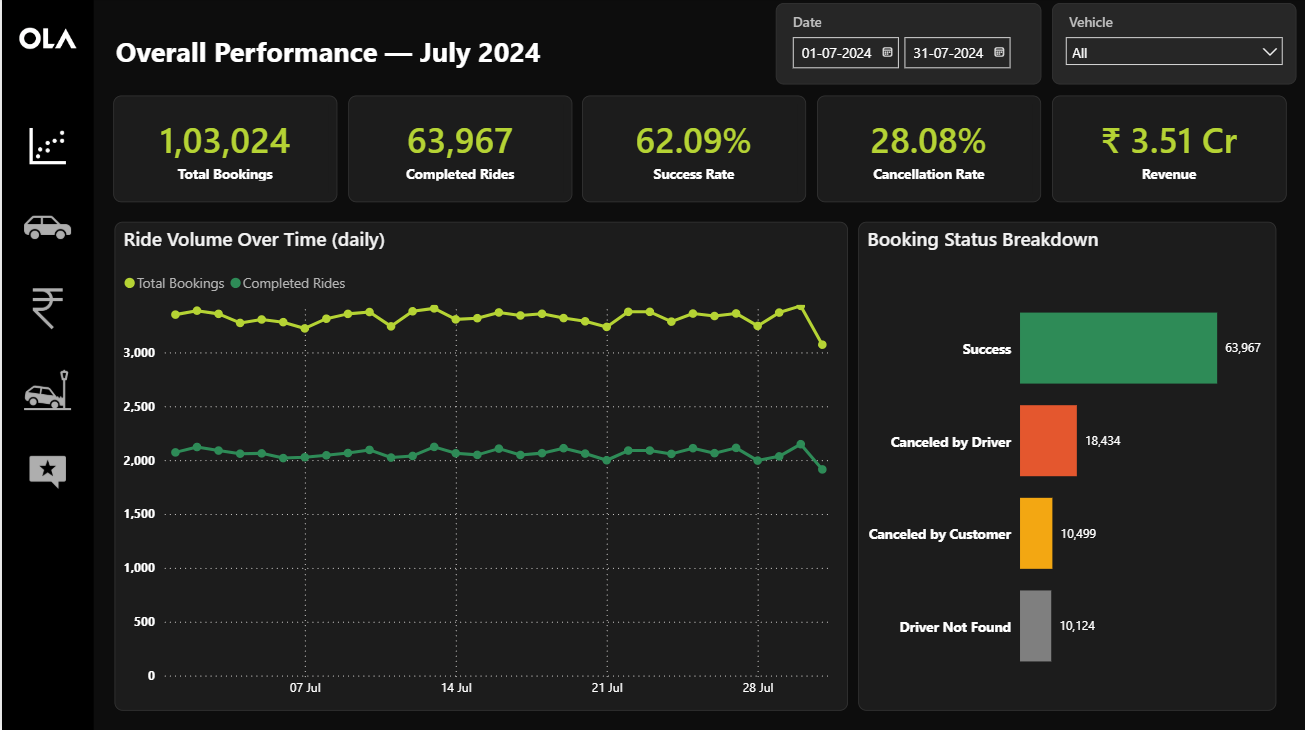

The dashboard page shown, as its layout file describes it:
{"tool":"powerbi","page":{"name":"Overall","canvas":[1280,720],"ordinal":0},"visuals":[{"type":"group","id":"g1","title":"Group 1","box":[0,0,90,720],"z":0},{"type":"shape","box":[0,0,90,720],"z":0,"group":"g1"},{"type":"image","box":[10,25,70,30],"z":1000,"group":"g1"},{"type":"textbox","box":[100,30,600,45],"z":1000},{"type":"slicer","fields":{"Values":["ola_rides.Ride_Date"]},"box":[759.6,5.1,260.4,80],"z":2000},{"type":"image","box":[20,120,50,50],"z":2000,"group":"g1"},{"type":"slicer","fields":{"Values":["ola_rides.Vehicle_Type"]},"box":[1030.3,5.1,240,80],"z":3000},{"type":"image","box":[20,200,50,50],"z":3000,"group":"g1"},{"type":"cardVisual","fields":{"Data":["_Measures.Total Bookings Label"]},"box":[109.8,95.8,220,105],"z":4000},{"type":"image","box":[20,280,50,50],"z":4000,"group":"g1"},{"type":"cardVisual","fields":{"Data":["_Measures.Completed Rides Label"]},"box":[339.6,95.8,220,105],"z":5000},{"type":"image","box":[20,360,50,50],"z":5000,"group":"g1"},{"type":"cardVisual","fields":{"Data":["_Measures.Success Rate"]},"box":[569.4,95.8,220,105],"z":6000},{"type":"image","box":[20,440,50,50],"z":6000,"group":"g1"},{"type":"cardVisual","fields":{"Data":["_Measures.Cancellation Rate"]},"box":[800.5,95.8,220,105],"z":7000},{"type":"cardVisual","fields":{"Data":["_Measures.Revenue Cr"]},"box":[1030.3,95.8,230,105],"z":8000},{"type":"lineChart","title":"Ride Volume Over Time (daily)","fields":{"Category":["ola_rides.Ride_Date.Variation.Date Hierarchy.Year"],"Y":["_Measures.Total Bookings","_Measures.Completed Rides"]},"box":[110,220,720,480],"z":9000},{"type":"clusteredBarChart","title":"Booking Status Breakdown","fields":{"Category":["ola_rides.Booking_Status"],"Y":["_Measures.Total Bookings"]},"box":[840,220,410,480],"z":10000}]}

Visuals, with their boxes in screenshot pixels (x1, y1, x2, y2), scaled from the page's 1280x720 canvas onto the 1305x730 screenshot:
"Group 1" group: (x1=0, y1=0, x2=92, y2=729)
shape: (x1=0, y1=0, x2=92, y2=729)
image: (x1=10, y1=25, x2=82, y2=56)
textbox: (x1=102, y1=30, x2=714, y2=76)
slicer - ola_rides.Ride_Date: (x1=774, y1=5, x2=1040, y2=86)
image: (x1=20, y1=122, x2=71, y2=172)
slicer - ola_rides.Vehicle_Type: (x1=1050, y1=5, x2=1295, y2=86)
image: (x1=20, y1=203, x2=71, y2=253)
cardVisual - _Measures.Total Bookings Label: (x1=112, y1=97, x2=336, y2=204)
image: (x1=20, y1=284, x2=71, y2=335)
cardVisual - _Measures.Completed Rides Label: (x1=346, y1=97, x2=571, y2=204)
image: (x1=20, y1=365, x2=71, y2=416)
cardVisual - _Measures.Success Rate: (x1=581, y1=97, x2=805, y2=204)
image: (x1=20, y1=446, x2=71, y2=497)
cardVisual - _Measures.Cancellation Rate: (x1=816, y1=97, x2=1040, y2=204)
cardVisual - _Measures.Revenue Cr: (x1=1050, y1=97, x2=1285, y2=204)
"Ride Volume Over Time (daily)" lineChart: (x1=112, y1=223, x2=846, y2=710)
"Booking Status Breakdown" clusteredBarChart: (x1=856, y1=223, x2=1274, y2=710)
